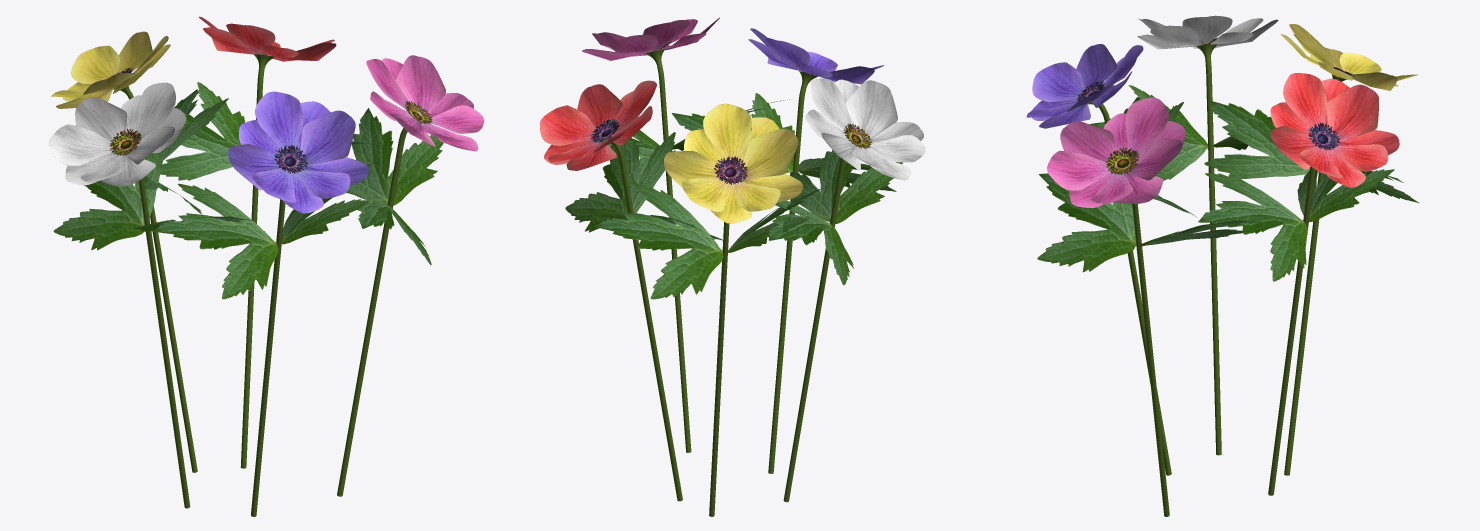
Rendered from Anemone.fbx.
3 views of the same model, side by side, from view 1: azimuth 30°, elevation 25°; view 2: azimuth 150°, elevation 25°; view 3: azimuth 270°, elevation 25° (orthographic). The views are drawn at different scales.
Parts seen in each view (by area): view 1: Cylinder, Cylinder.004, Cylinder.001, Cylinder.002, Cylinder.003; view 2: Cylinder.003, Cylinder.004, Cylinder.002, Cylinder, Cylinder.001; view 3: Cylinder.002, Cylinder.001, Cylinder.003, Cylinder.004, Cylinder.
Boxes of the visible parts, bbox=[...] form: Cylinder: bbox=[153, 91, 374, 516]; Cylinder.004: bbox=[48, 82, 264, 508]; Cylinder.001: bbox=[337, 55, 484, 496]; Cylinder.002: bbox=[160, 16, 377, 468]; Cylinder.003: bbox=[51, 31, 228, 472]; Cylinder.003: bbox=[594, 103, 835, 516]; Cylinder.004: bbox=[769, 78, 925, 502]; Cylinder.002: bbox=[540, 80, 722, 501]; Cylinder: bbox=[672, 28, 896, 473]; Cylinder.001: bbox=[579, 17, 789, 452]; Cylinder.002: bbox=[1198, 73, 1399, 495]; Cylinder.001: bbox=[1037, 97, 1261, 516]; Cylinder.003: bbox=[1204, 24, 1419, 475]; Cylinder.004: bbox=[1090, 15, 1278, 455]; Cylinder: bbox=[1026, 44, 1195, 475].
Size of the model in its own units: 1563 by 1652 by 1673.
